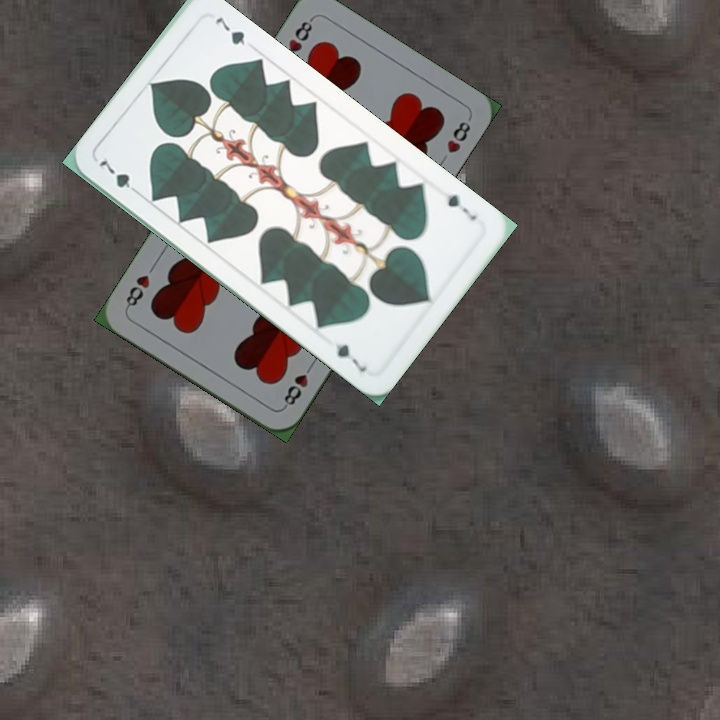G7: (94, 153, 144, 198), (438, 186, 480, 223)
H8: (279, 358, 317, 411), (284, 14, 316, 55)
